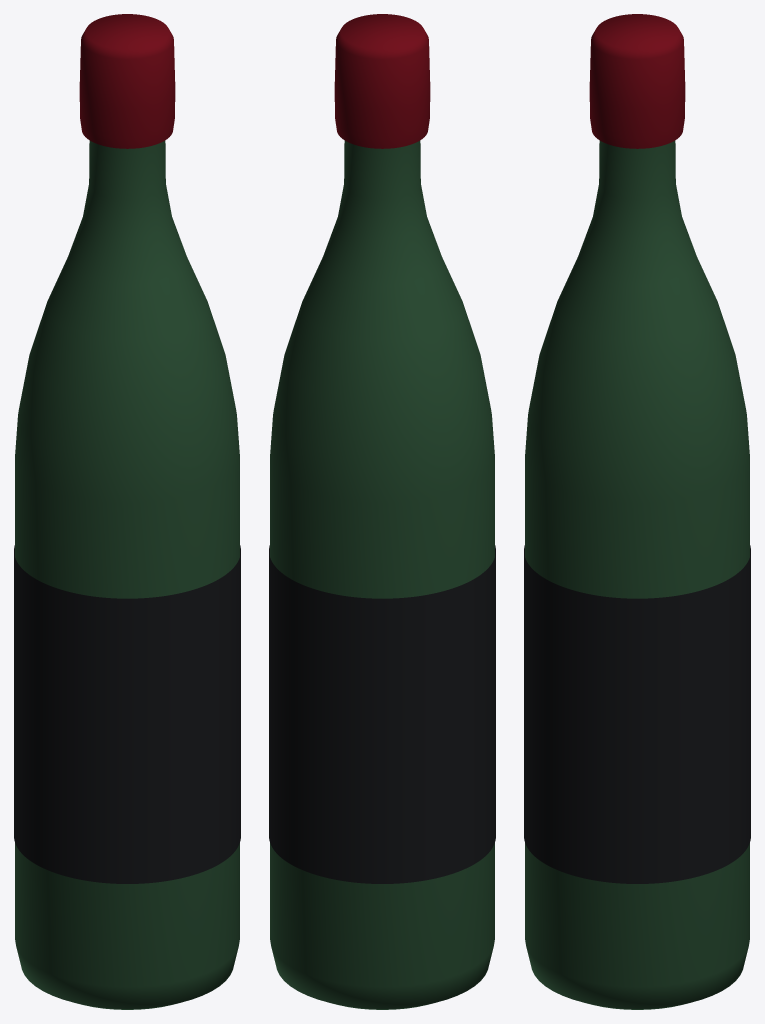
File: wine_reserve_minimal.glb
3 renders of one model, left to right at view 1: azimuth 30°, elevation 25°; view 2: azimuth 150°, elevation 25°; view 3: azimuth 270°, elevation 25°, orthographic.
Parts seen in each view (by area): view 1: Glass, Label_band, Cap; view 2: Glass, Label_band, Cap; view 3: Glass, Label_band, Cap.
Boxes of the visible parts, x1=… form: Glass: x1=15, y1=140, x2=239, y2=1009; Label_band: x1=14, y1=545, x2=240, y2=883; Cap: x1=79, y1=14, x2=175, y2=148; Glass: x1=270, y1=140, x2=494, y2=1009; Label_band: x1=269, y1=545, x2=495, y2=883; Cap: x1=334, y1=14, x2=430, y2=148; Glass: x1=525, y1=140, x2=749, y2=1009; Label_band: x1=524, y1=545, x2=750, y2=883; Cap: x1=589, y1=14, x2=685, y2=148.
Size of the model in its own units: 0.0757 by 0.346 by 0.0757.
